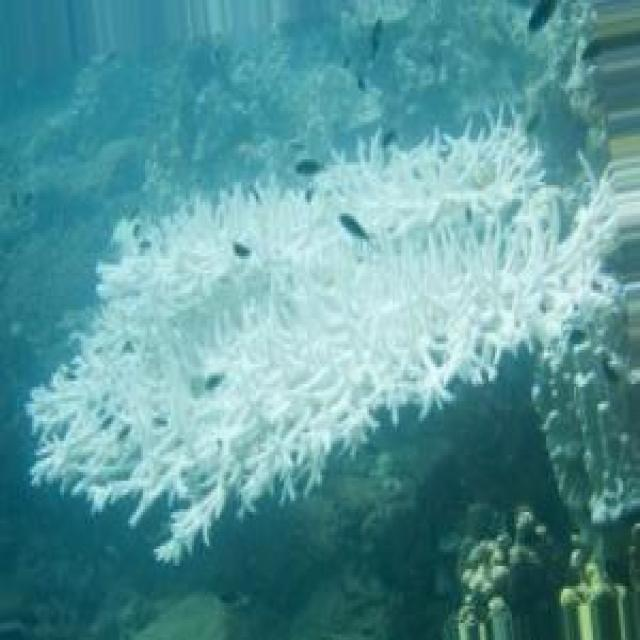bleached coral: (442, 270, 557, 381), (179, 245, 309, 338), (36, 415, 158, 498), (326, 336, 427, 432), (183, 393, 275, 481), (356, 168, 482, 228), (90, 287, 177, 361), (497, 134, 550, 213), (115, 205, 198, 253), (335, 210, 380, 273)
healthy coral: (209, 40, 316, 139), (395, 14, 486, 105), (70, 48, 156, 137), (284, 543, 358, 640), (85, 540, 156, 640), (439, 486, 503, 577)
